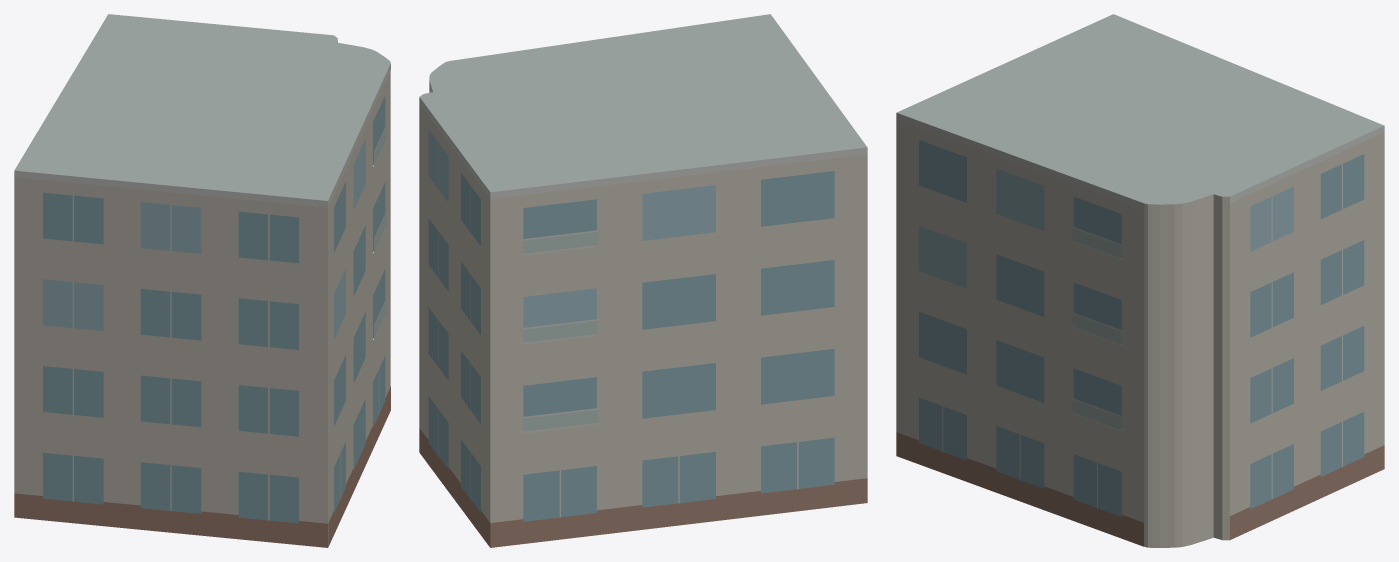
The model's file is survey-upis-32977680.glb.
3 views of the same model, side by side, from view 1: azimuth 30°, elevation 25°; view 2: azimuth 150°, elevation 25°; view 3: azimuth 270°, elevation 25° (orthographic). The views are drawn at different scales.
Visible parts, largest first — view 1: survey-upis-32977680.tmp; view 2: survey-upis-32977680.tmp; view 3: survey-upis-32977680.tmp.
Boxes of the visible parts, x1,y1,x2,y2 form: survey-upis-32977680.tmp: (14,14,390,547); survey-upis-32977680.tmp: (419,14,867,547); survey-upis-32977680.tmp: (896,14,1384,547).
Bounding box in the file's own units: 15.11 × 12.7 × 16.37.
